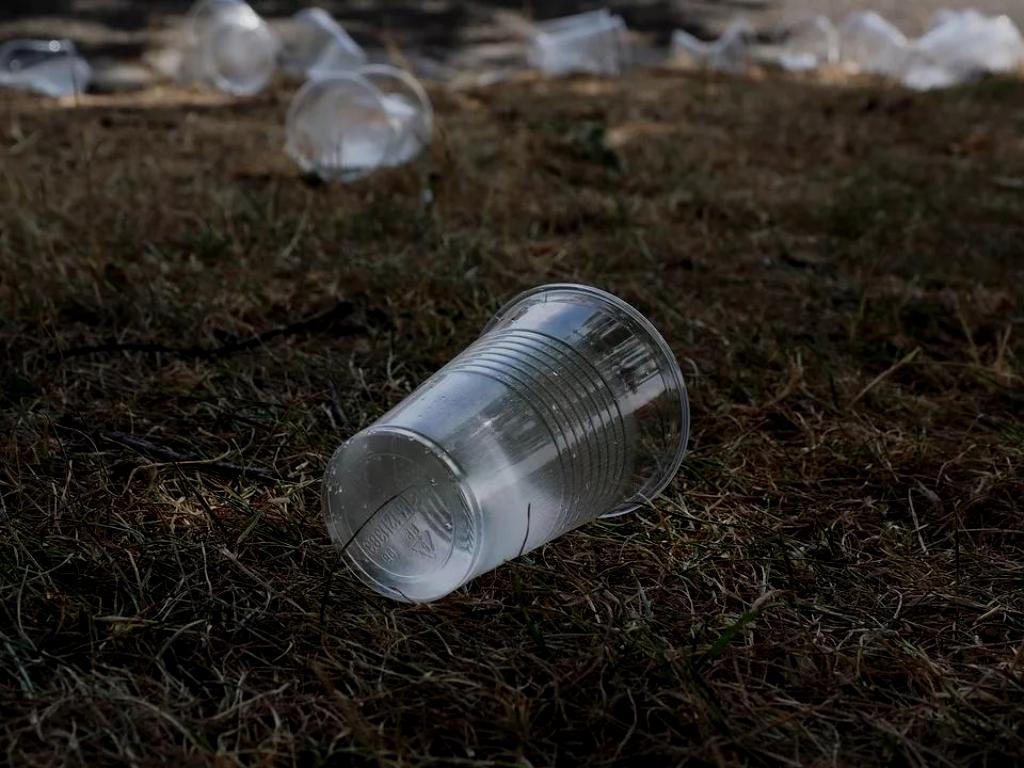garbage: (323, 282, 693, 606)
